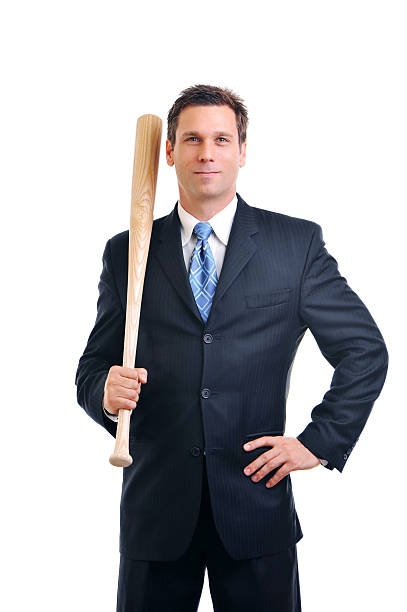bita: (99, 111, 166, 461)
